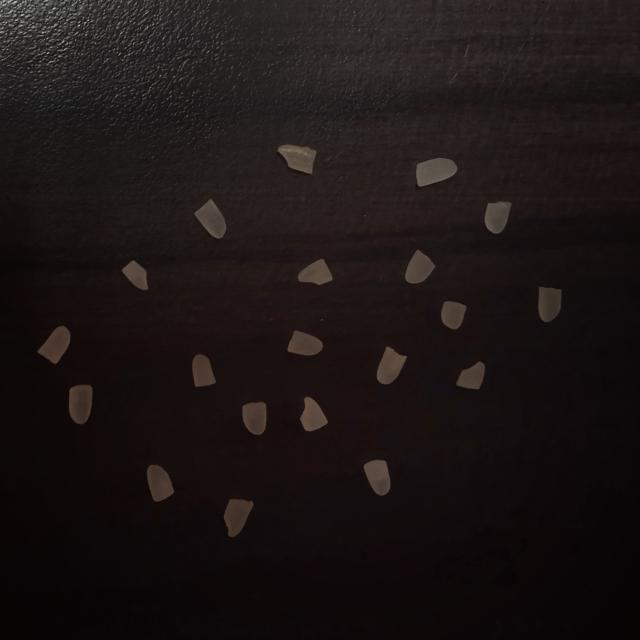Broken: (37, 326, 71, 364), (194, 198, 226, 238), (416, 157, 458, 187), (224, 498, 254, 538), (278, 144, 317, 174), (377, 346, 407, 385), (404, 249, 436, 284), (147, 464, 175, 502), (363, 459, 391, 496), (298, 258, 334, 286), (300, 396, 328, 432), (69, 384, 93, 424), (484, 201, 512, 234), (288, 330, 323, 356), (456, 360, 486, 390), (538, 287, 562, 322), (242, 402, 267, 435), (192, 354, 216, 387), (122, 260, 148, 290), (441, 301, 466, 330)
